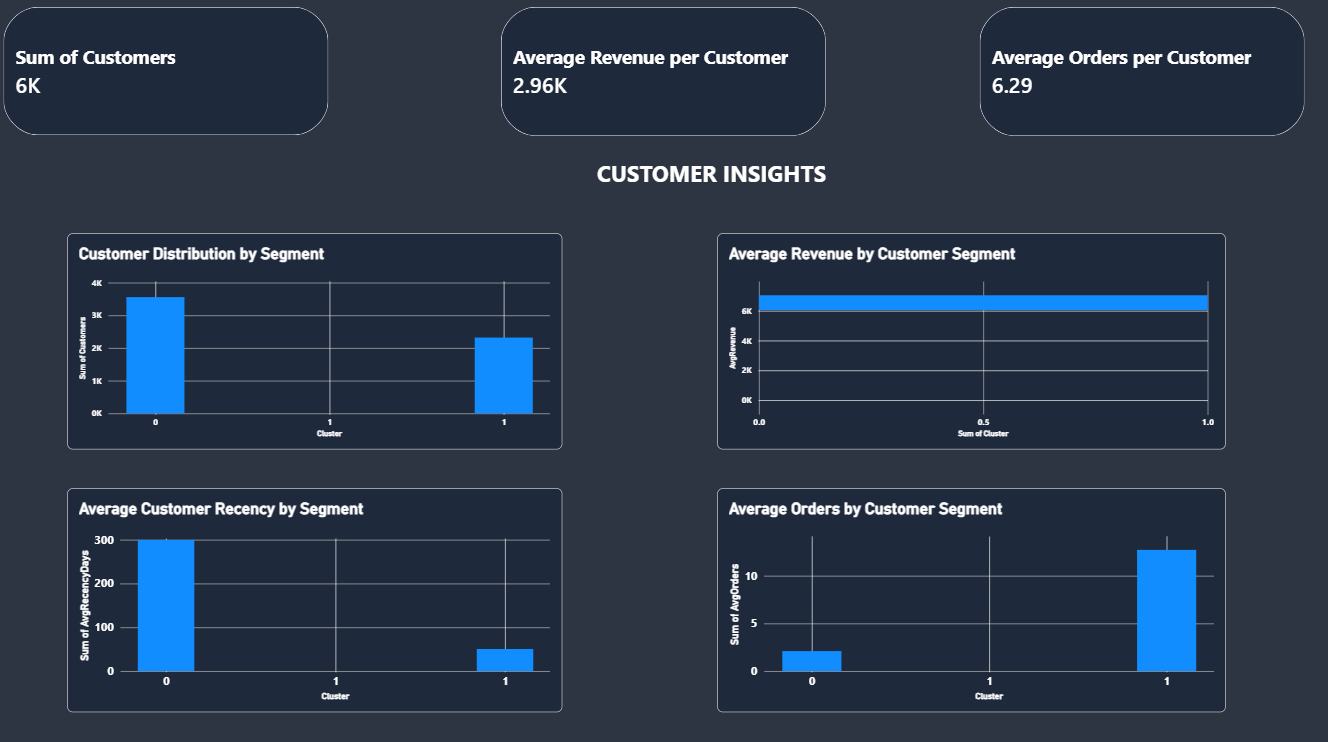

Layout of this report page (visuals, bound fields, positions):
{"tool":"powerbi","page":{"name":"Customer Insights","canvas":[1920,1080],"ordinal":1},"visuals":[{"type":"cardVisual","fields":{"Data":["Sum(segment_summary.Customers)"]},"box":[17.9,21.4,464.3,183.9],"z":0},{"type":"cardVisual","fields":{"Data":["segment_summary.Average Revenue per Customer"]},"box":[728.6,21.4,464,184],"z":1000},{"type":"cardVisual","fields":{"Data":["segment_summary.Average Orders per Customer"]},"box":[1412.5,21.4,464,184],"z":2000},{"type":"clusteredColumnChart","title":"Customer Distribution by Segment","fields":{"Category":["segment_summary.Cluster"],"Y":["Sum(segment_summary.Customers)"]},"box":[108.9,344.6,707.1,308.9],"z":3000},{"type":"clusteredBarChart","title":"Average Revenue by Customer Segment","fields":{"Category":["segment_summary.AvgRevenue"],"Y":["Sum(segment_summary.Cluster)"]},"box":[1037.5,344.6,726.8,308.9],"z":4000},{"type":"clusteredColumnChart","title":"Average Customer Recency by Segment","fields":{"Category":["segment_summary.Cluster"],"Y":["Sum(segment_summary.AvgRecencyDays)"]},"box":[108.9,708.9,707.1,319.6],"z":5000},{"type":"clusteredColumnChart","title":"Average Orders by Customer Segment","fields":{"Category":["segment_summary.Cluster"],"Y":["Sum(segment_summary.AvgOrders)"]},"box":[1037.5,708.9,726.8,319.6],"z":5001}]}

Visuals, with their boxes in screenshot pixels (x1, y1, x2, y2), scaled from the page's 1920x1080 canvas onto the 1328x742 screenshot:
cardVisual - Sum(segment_summary.Customers): box=[12, 15, 334, 141]
cardVisual - segment_summary.Average Revenue per Customer: box=[504, 15, 825, 141]
cardVisual - segment_summary.Average Orders per Customer: box=[977, 15, 1298, 141]
"Customer Distribution by Segment" clusteredColumnChart: box=[75, 237, 564, 449]
"Average Revenue by Customer Segment" clusteredBarChart: box=[718, 237, 1220, 449]
"Average Customer Recency by Segment" clusteredColumnChart: box=[75, 487, 564, 707]
"Average Orders by Customer Segment" clusteredColumnChart: box=[718, 487, 1220, 707]
